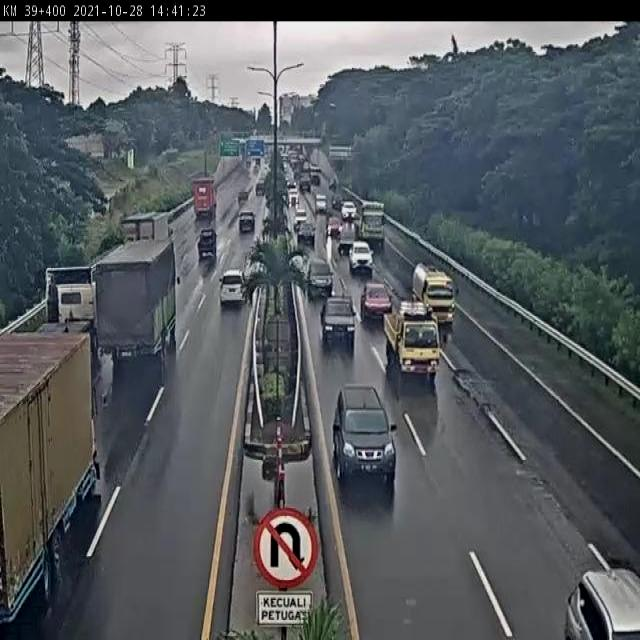Car: (329, 385, 398, 482), (317, 296, 361, 345), (302, 258, 336, 299), (361, 285, 397, 319), (216, 270, 247, 308), (348, 238, 376, 276), (195, 225, 222, 262), (236, 207, 260, 236), (295, 223, 316, 249), (324, 218, 344, 242), (342, 198, 359, 224), (314, 193, 331, 215), (293, 209, 309, 228), (240, 183, 252, 205)
Truck: (0, 340, 105, 625), (92, 246, 182, 375), (31, 265, 100, 350), (386, 298, 440, 376), (408, 264, 465, 317), (114, 212, 178, 252), (189, 172, 220, 225), (357, 197, 388, 244)
